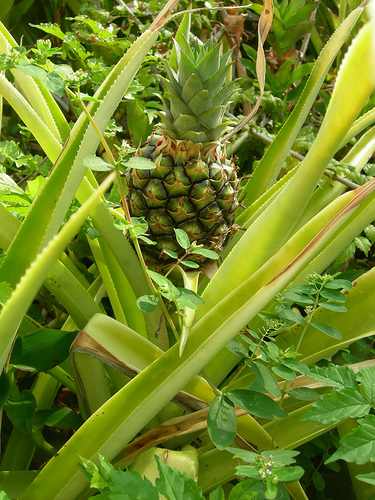pineapple: (127, 7, 242, 267)
